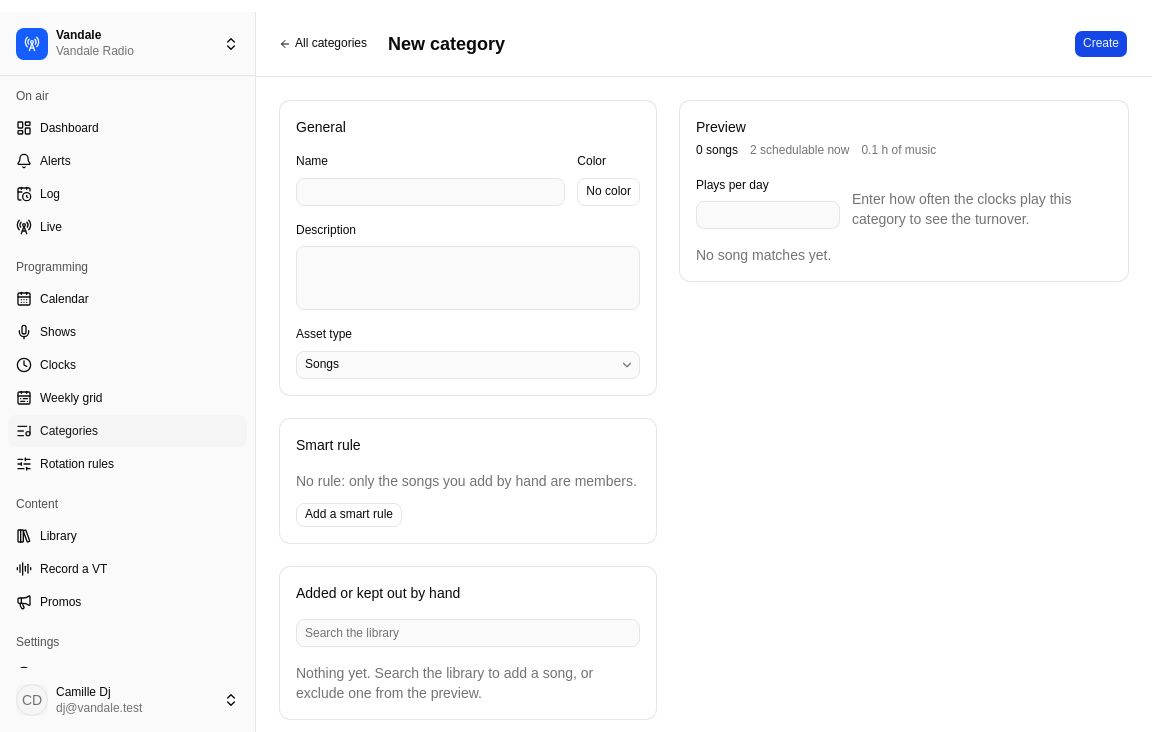
it: categories › adds a song by hand to a new category, with its preview label
Type "alp" into the search field labelled "Search the library" at [468, 632], box [296, 618, 640, 646]
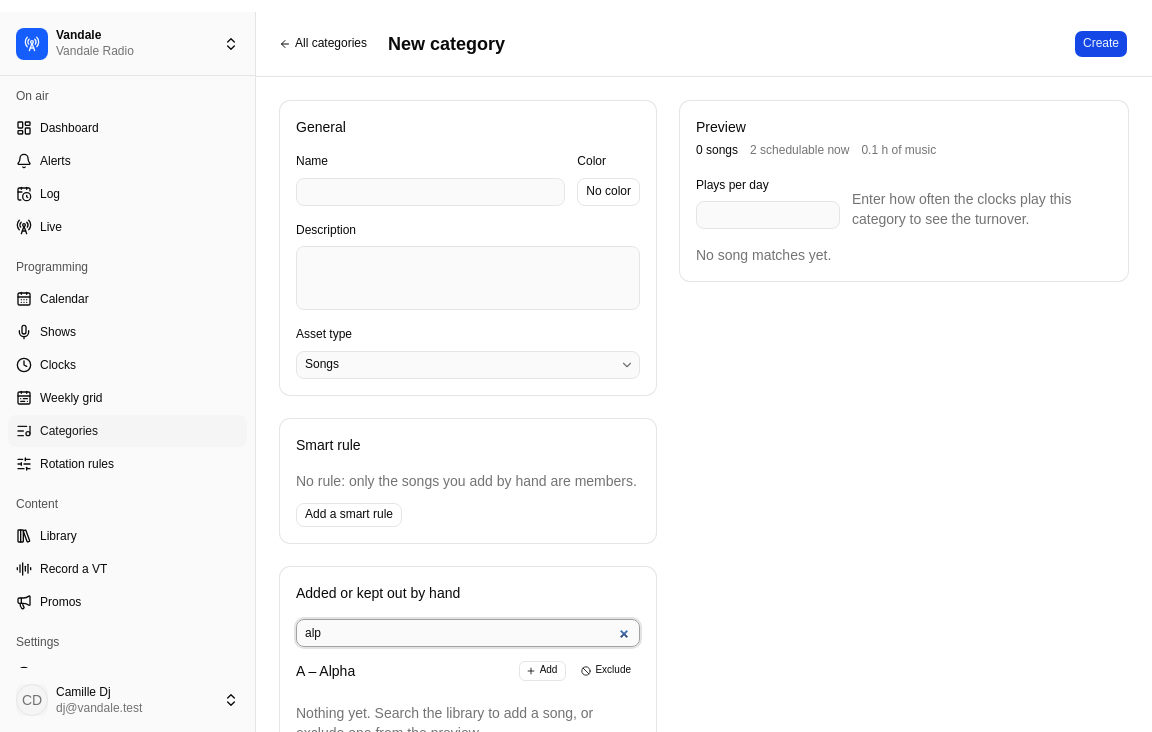
Click the button with aria-label "Add Alpha" at [542, 670], box [519, 660, 566, 680]
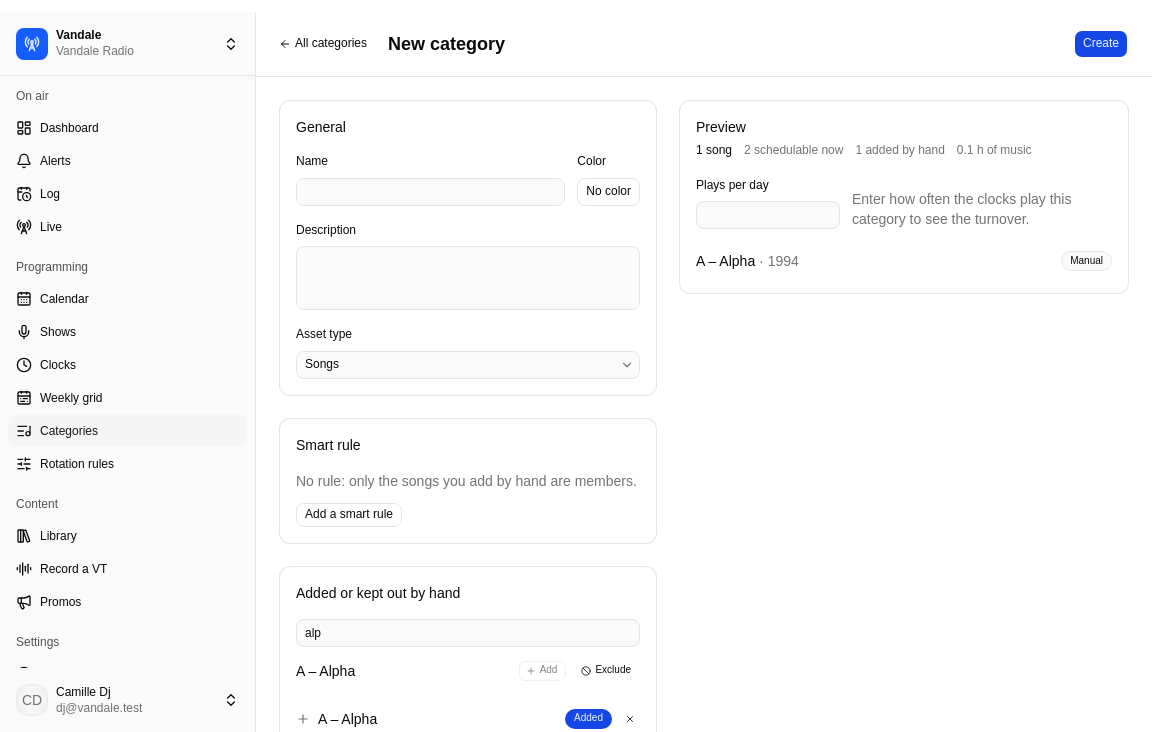
Check: the text with test id "preview-members" reads "1 song", box [696, 143, 732, 157]
Check: the 2nd text "A – Alpha" is shown, box [318, 710, 377, 726]
Check: the icon "Added" is shown, box [565, 708, 612, 728]
